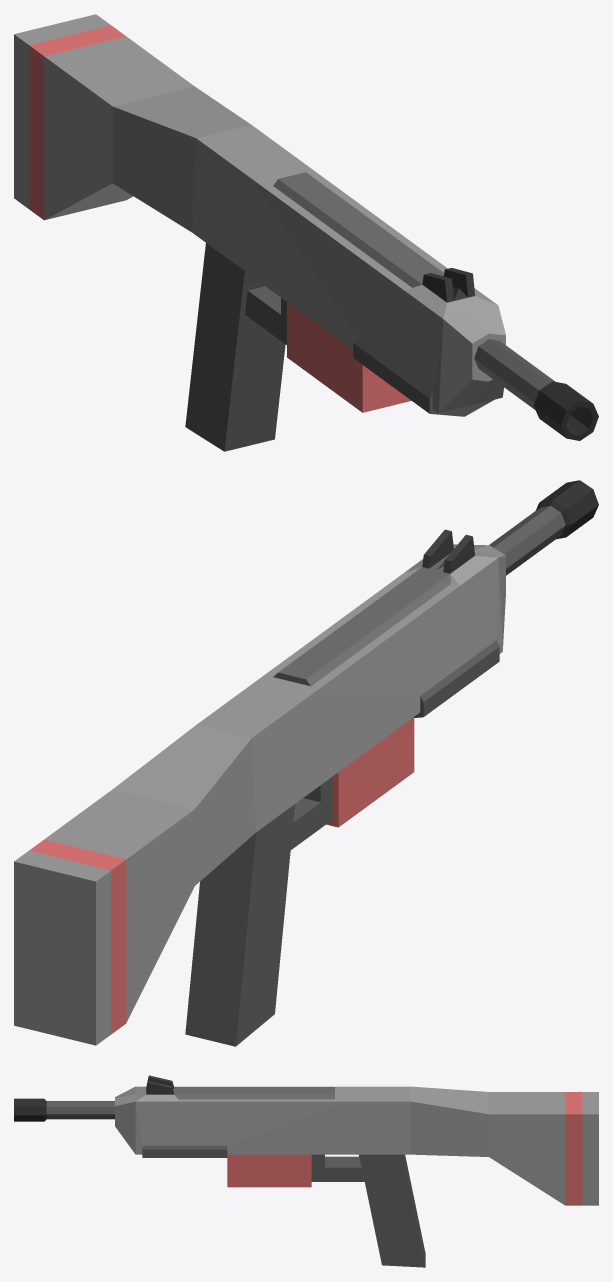
Rendered from SubMachineGun.fbx.
3 renders of one model, top to bottom at view 1: azimuth 30°, elevation 25°; view 2: azimuth 150°, elevation 25°; view 3: azimuth 270°, elevation 25°, orthographic. The views are drawn at different scales.
Parts seen in each view (by area): view 1: Cube.003; view 2: Cube.003; view 3: Cube.003.
Part boxes in pixels (box(x1,y1,x2,y2)): Cube.003: box(14, 14, 598, 451); Cube.003: box(14, 480, 598, 1046); Cube.003: box(14, 1075, 598, 1267).
Bounding box in the file's own units: 4.56 × 17.3 × 50.52.
